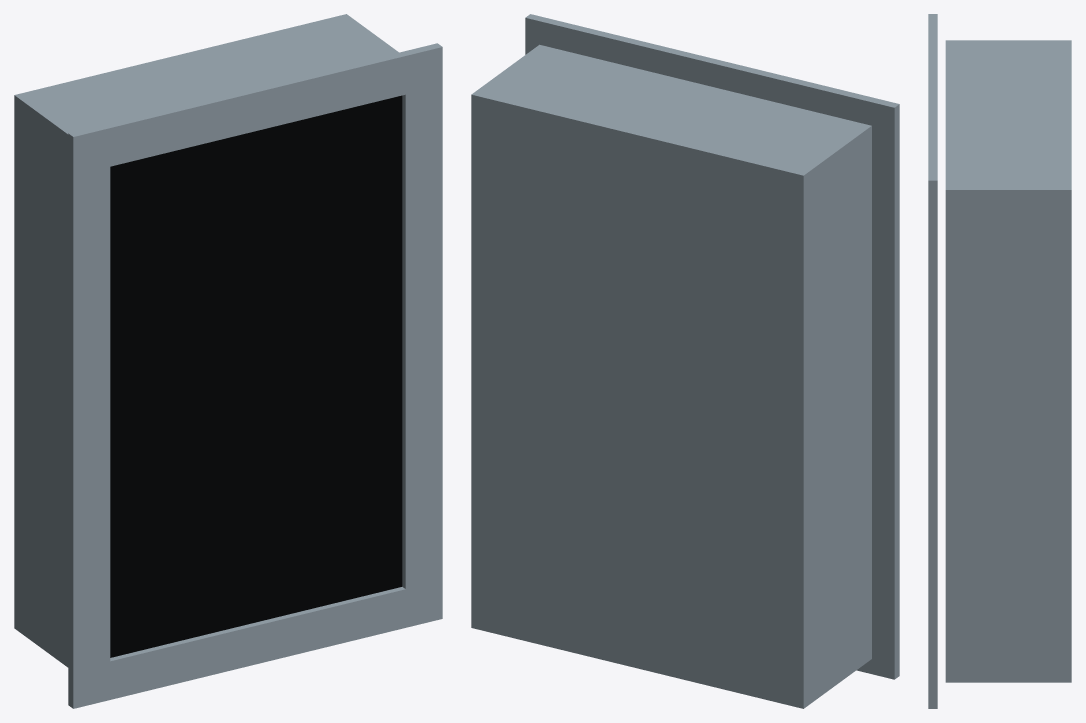
File: airlock_wall_panel.glb
3 renders of one model, left to right at view 1: azimuth 30°, elevation 25°; view 2: azimuth 150°, elevation 25°; view 3: azimuth 270°, elevation 25°, orthographic. The views are drawn at different scales.
Visible parts, largest first — view 1: airlock_panel_glass, airlock_panel_frame; view 2: airlock_panel_frame; view 3: airlock_panel_frame.
Boxes of the visible parts, x1,y1,x2,y2 form: airlock_panel_glass: [110, 95, 402, 657]; airlock_panel_frame: [14, 14, 442, 708]; airlock_panel_frame: [471, 14, 899, 708]; airlock_panel_frame: [928, 14, 1071, 708].
Size of the model in its own units: 0.25 by 0.37 by 0.091.
